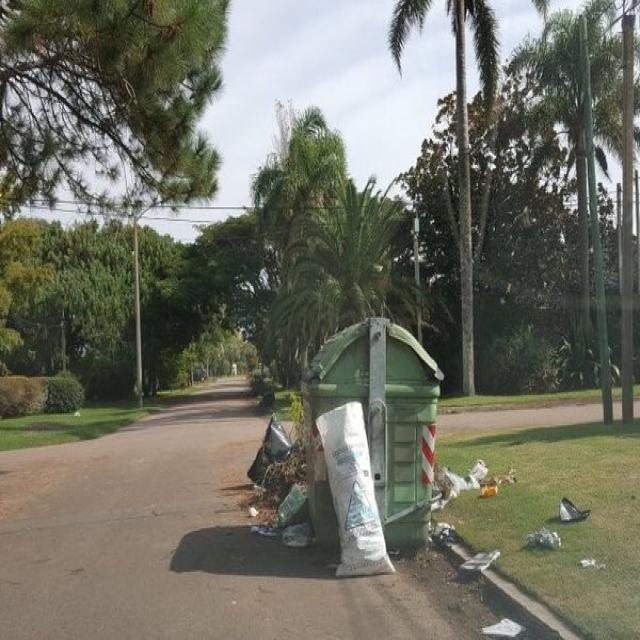garbage: (310, 395, 396, 584), (242, 407, 309, 557), (523, 489, 590, 560), (430, 466, 520, 508), (470, 612, 528, 638)
